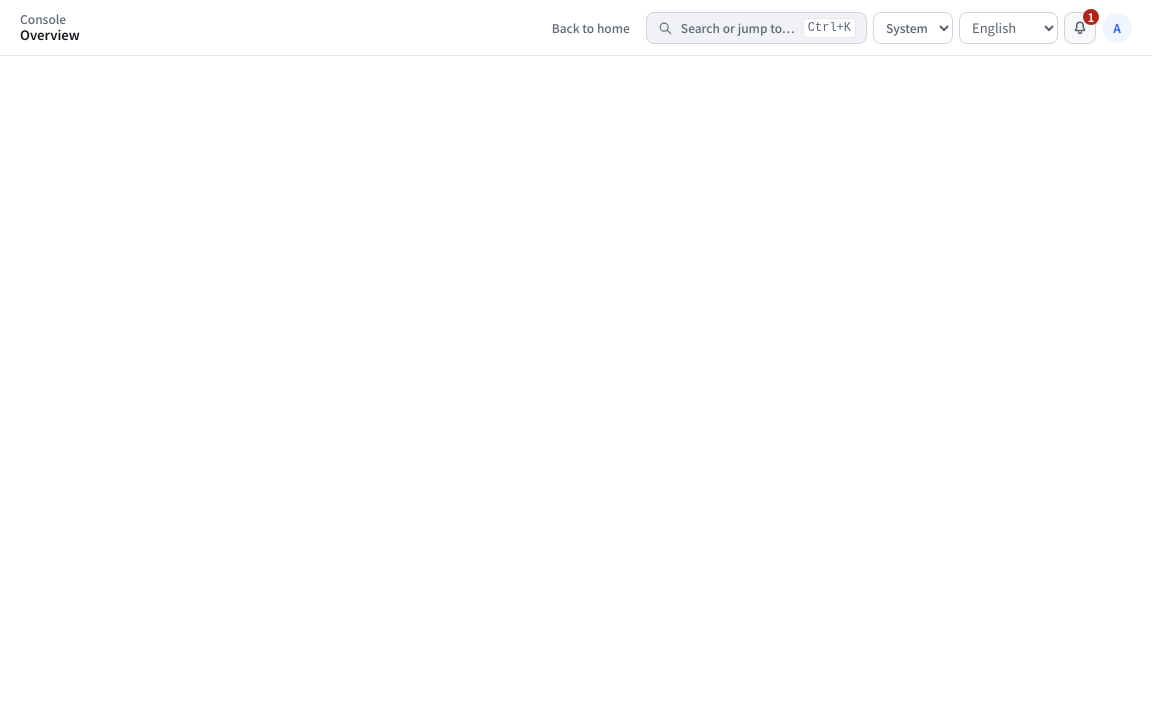
console notification bell › uses singular copy for exactly one unread notification
This screenshot has width=1152, height=720.
Click the button named "Notifications": (1080, 28) [1064,12,1096,44]
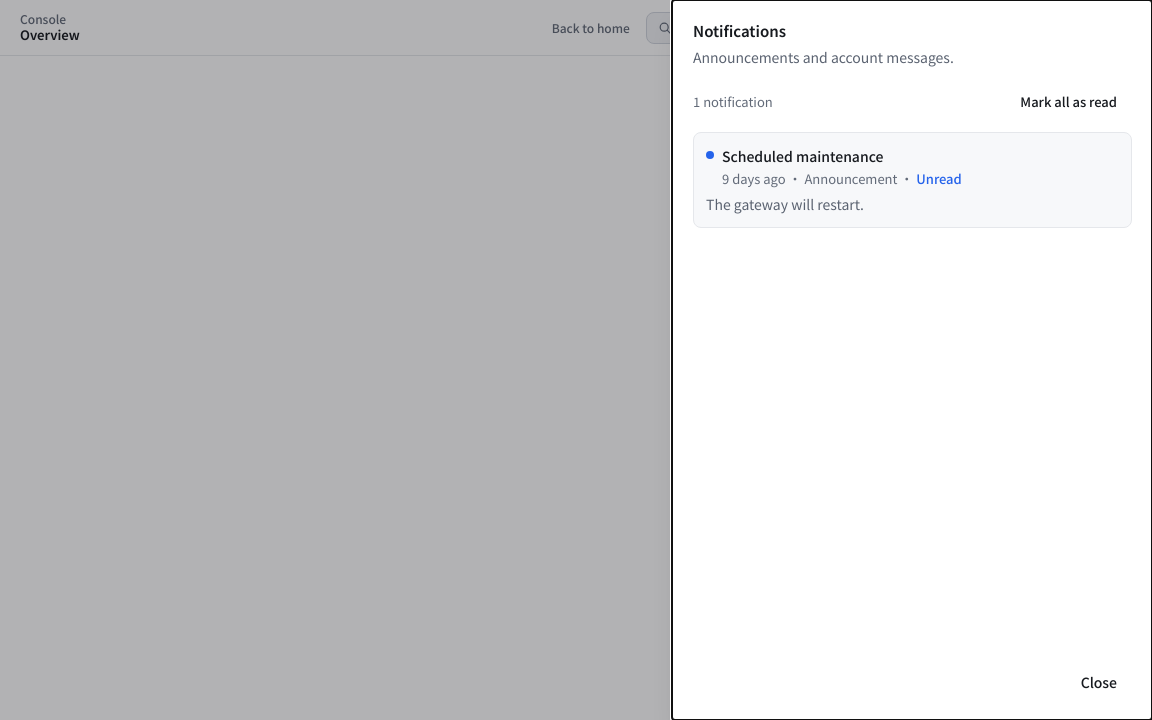
Result: the text "1 notification" is shown at [693,92,773,112]
